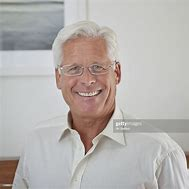person: (51, 21, 122, 118)
